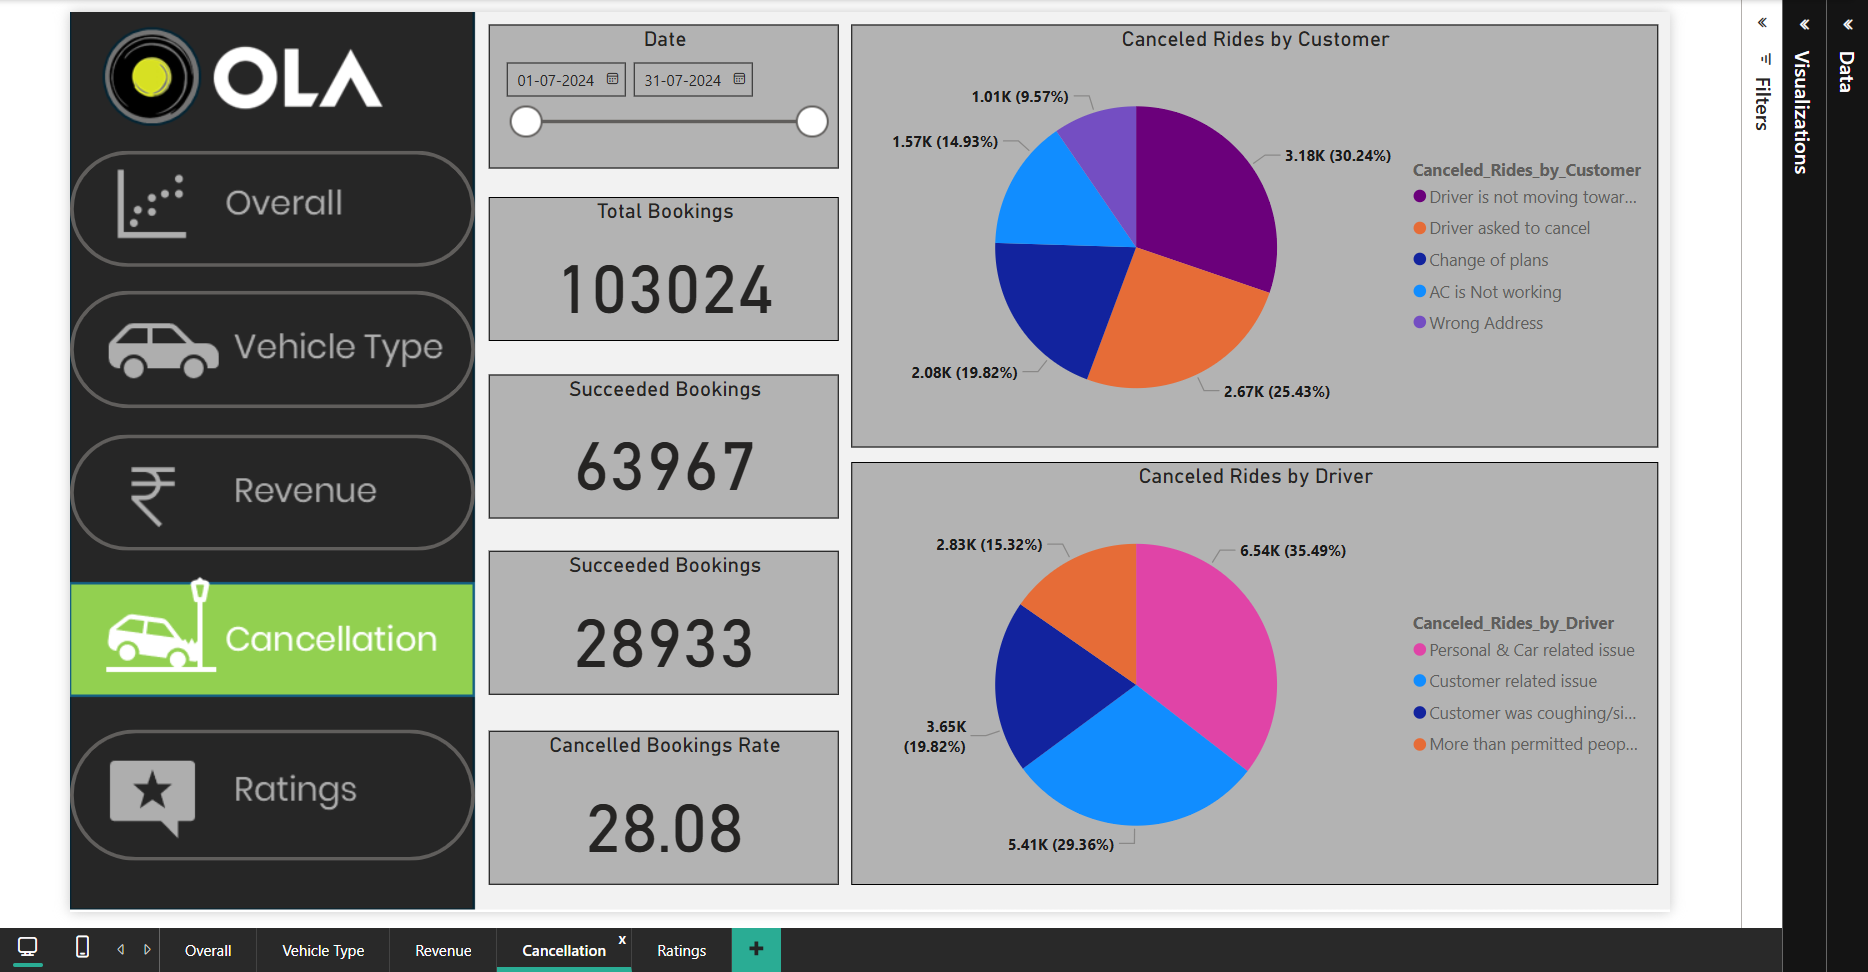

The dashboard page shown, as its layout file describes it:
{"tool":"powerbi","page":{"name":"Cancellation","canvas":[1280,720],"ordinal":3},"visuals":[{"type":"actionButton","box":[0,223.3,324.4,93.3],"z":0},{"type":"actionButton","box":[0,111.1,324.4,93.3],"z":1000},{"type":"actionButton","box":[0,337.8,324.4,93.3],"z":2000},{"type":"actionButton","box":[0,574.4,324.4,104.4],"z":3000},{"type":"pieChart","title":"Canceled Rides by Customer","fields":{"Category":["Bookings-100000-Rows.Canceled_Rides_by_Customer"],"Y":["CountNonNull(Bookings-100000-Rows.Canceled_Rides_by_Customer)"]},"box":[625,10,645,337.5],"z":3001},{"type":"pieChart","title":"Canceled Rides by Driver","fields":{"Category":["Bookings-100000-Rows.Canceled_Rides_by_Driver"],"Y":["CountNonNull(Bookings-100000-Rows.Canceled_Rides_by_Driver)"]},"box":[625,360,645,337.5],"z":3002},{"type":"slicer","title":"Date","fields":{"Values":["Bookings-100000-Rows.Date"]},"box":[335,10,280,115],"z":3003},{"type":"card","title":"Total Bookings","fields":{"Values":["Bookings-100000-Rows.Total Bookings"]},"box":[335,147.5,280,115],"z":3004},{"type":"card","title":"Succeeded Bookings","fields":{"Values":["Bookings-100000-Rows.Total Bookings"]},"box":[335,290,280,115],"z":3005},{"type":"card","title":"Succeeded Bookings","fields":{"Values":["Bookings-100000-Rows.Total Bookings"]},"box":[335,431.2,280,115],"z":3006},{"type":"card","title":"Cancelled Bookings Rate","fields":{"Values":["Bookings-100000-Rows.Cancellation Rate"]},"box":[335,575,280,122.5],"z":3007}]}

Visuals, with their boxes on the page's 1280x720 design canvas (x1, y1, x2, y2). These are canvas units, not pixel positions in the 1868x972 screenshot, which may show the page scaled, cropped or inside an application window:
actionButton: {"x1": 0, "y1": 223, "x2": 324, "y2": 317}
actionButton: {"x1": 0, "y1": 111, "x2": 324, "y2": 204}
actionButton: {"x1": 0, "y1": 338, "x2": 324, "y2": 431}
actionButton: {"x1": 0, "y1": 574, "x2": 324, "y2": 679}
"Canceled Rides by Customer" pieChart: {"x1": 625, "y1": 10, "x2": 1270, "y2": 348}
"Canceled Rides by Driver" pieChart: {"x1": 625, "y1": 360, "x2": 1270, "y2": 698}
"Date" slicer: {"x1": 335, "y1": 10, "x2": 615, "y2": 125}
"Total Bookings" card: {"x1": 335, "y1": 148, "x2": 615, "y2": 262}
"Succeeded Bookings" card: {"x1": 335, "y1": 290, "x2": 615, "y2": 405}
"Succeeded Bookings" card: {"x1": 335, "y1": 431, "x2": 615, "y2": 546}
"Cancelled Bookings Rate" card: {"x1": 335, "y1": 575, "x2": 615, "y2": 698}
